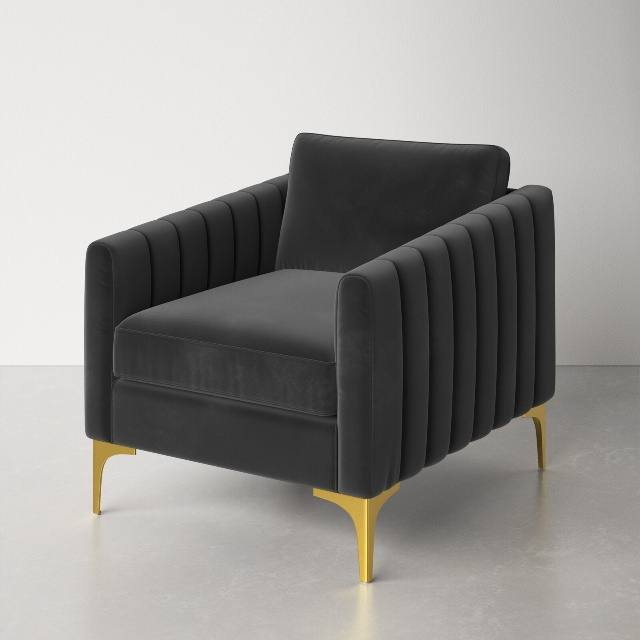obstacle: (85, 133, 554, 581)
